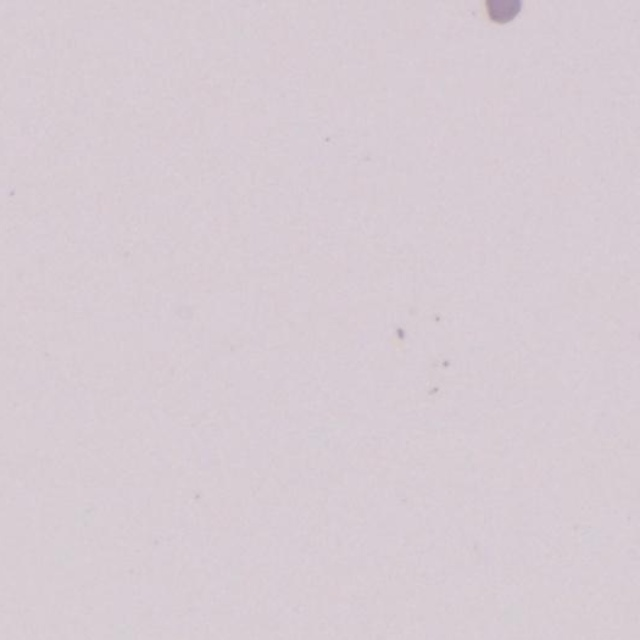non_viable: (485, 0, 522, 22)
